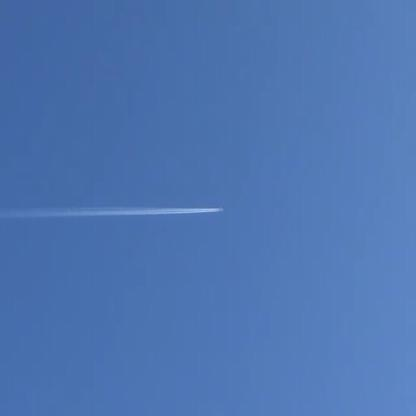CIV_Plane: (214, 202, 226, 214)
